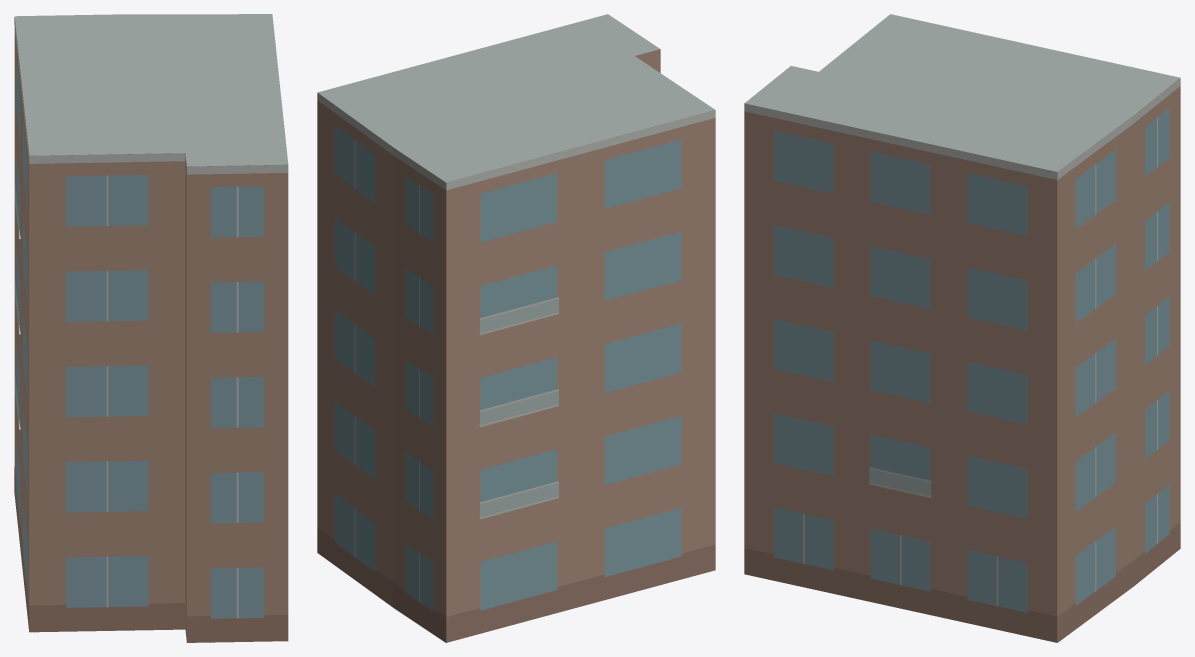
Rendered from survey-upis-33031601.glb.
3 renders of one model, left to right at view 1: azimuth 30°, elevation 25°; view 2: azimuth 150°, elevation 25°; view 3: azimuth 270°, elevation 25°, orthographic. The views are drawn at different scales.
Visible parts, largest first — view 1: survey-upis-33031601.tmp; view 2: survey-upis-33031601.tmp; view 3: survey-upis-33031601.tmp.
Part boxes in pixels (x1,y1,x2,y2): survey-upis-33031601.tmp: (14, 14, 288, 642); survey-upis-33031601.tmp: (317, 14, 715, 642); survey-upis-33031601.tmp: (744, 14, 1180, 642).
Bounding box in the file's own units: 10.3 × 14.3 × 12.01.
